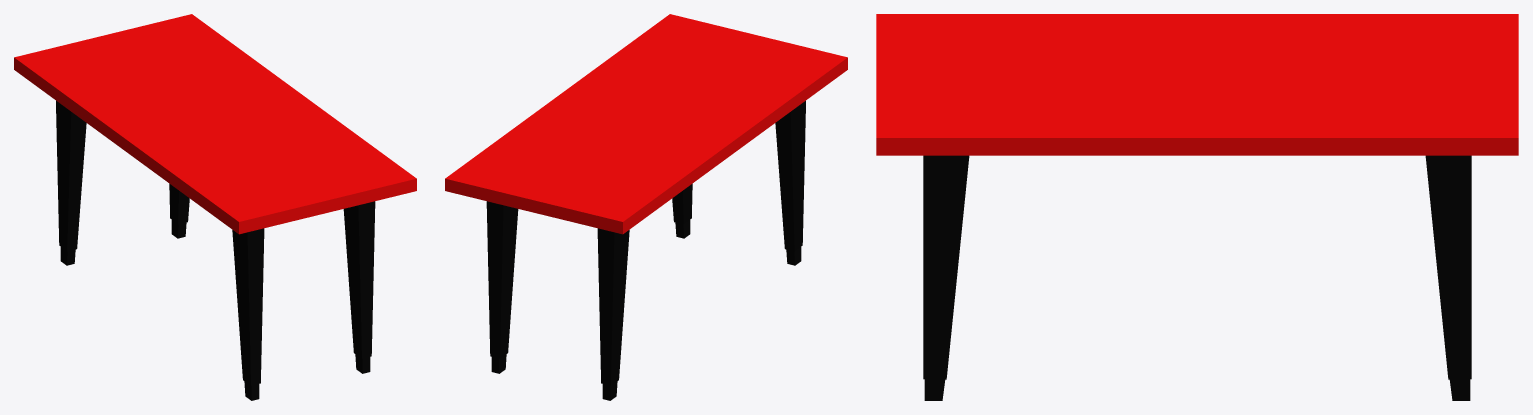
The model's file is Table_2.glb.
3 renders of one model, left to right at view 1: azimuth 30°, elevation 25°; view 2: azimuth 150°, elevation 25°; view 3: azimuth 270°, elevation 25°, orthographic. The views are drawn at different scales.
Visible parts, largest first — view 1: Table 2; view 2: Table 2; view 3: Table 2.
Boxes of the visible parts, x1,y1,x2,y2 form: Table 2: (14,14,416,400); Table 2: (445,14,847,400); Table 2: (876,14,1518,400).
Size of what is drawn, in the model's own units: 0.9144 by 0.9754 by 2.
1 material, 1 textured.
